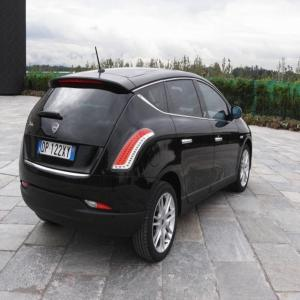Vehicle-registration-plate: (41, 144, 73, 164)
